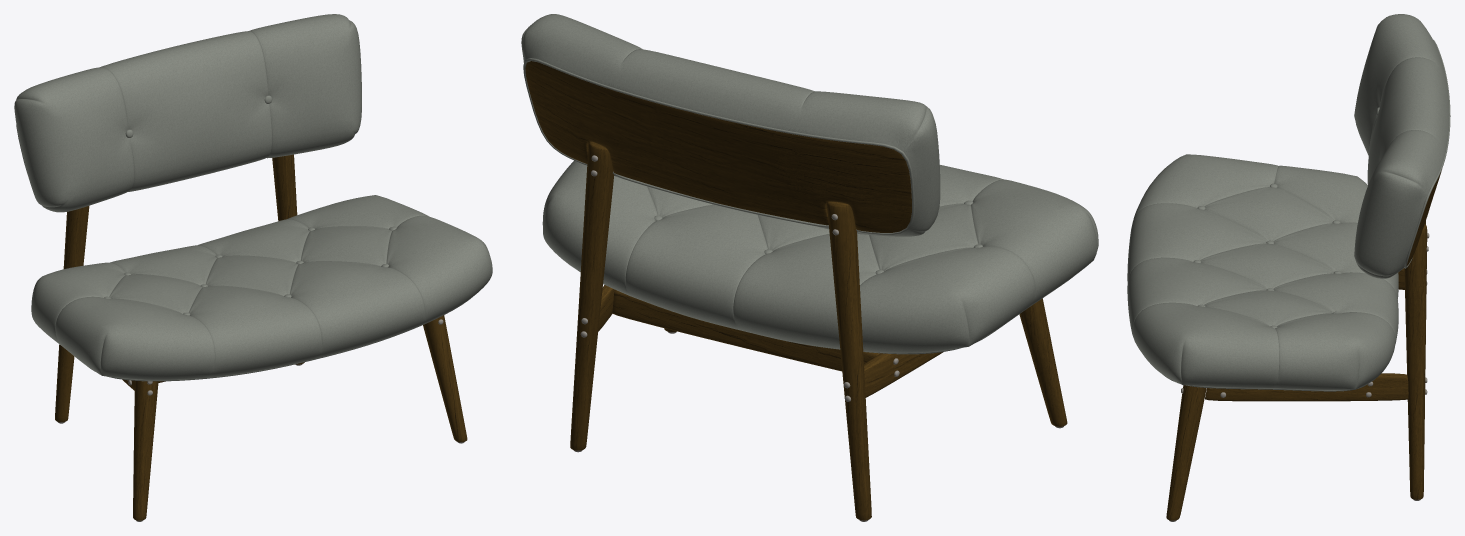
3 views of the same model, side by side, from view 1: azimuth 30°, elevation 25°; view 2: azimuth 150°, elevation 25°; view 3: azimuth 270°, elevation 25° (orthographic). The views are drawn at different scales.
Visible parts, largest first — view 1: SheenChair_fabric, SheenChair_wood; view 2: SheenChair_fabric, SheenChair_wood; view 3: SheenChair_fabric, SheenChair_wood.
Boxes of the visible parts, <box> form: SheenChair_fabric: <box>14,14,492,381</box>; SheenChair_wood: <box>55,154,467,520</box>; SheenChair_fabric: <box>521,14,1098,354</box>; SheenChair_wood: <box>525,61,1067,520</box>; SheenChair_fabric: <box>1127,14,1450,391</box>; SheenChair_wood: <box>1166,170,1441,520</box>.
Size of the model in its own units: 0.8266 by 0.6862 by 0.5703.
3 materials, 2 textured.
